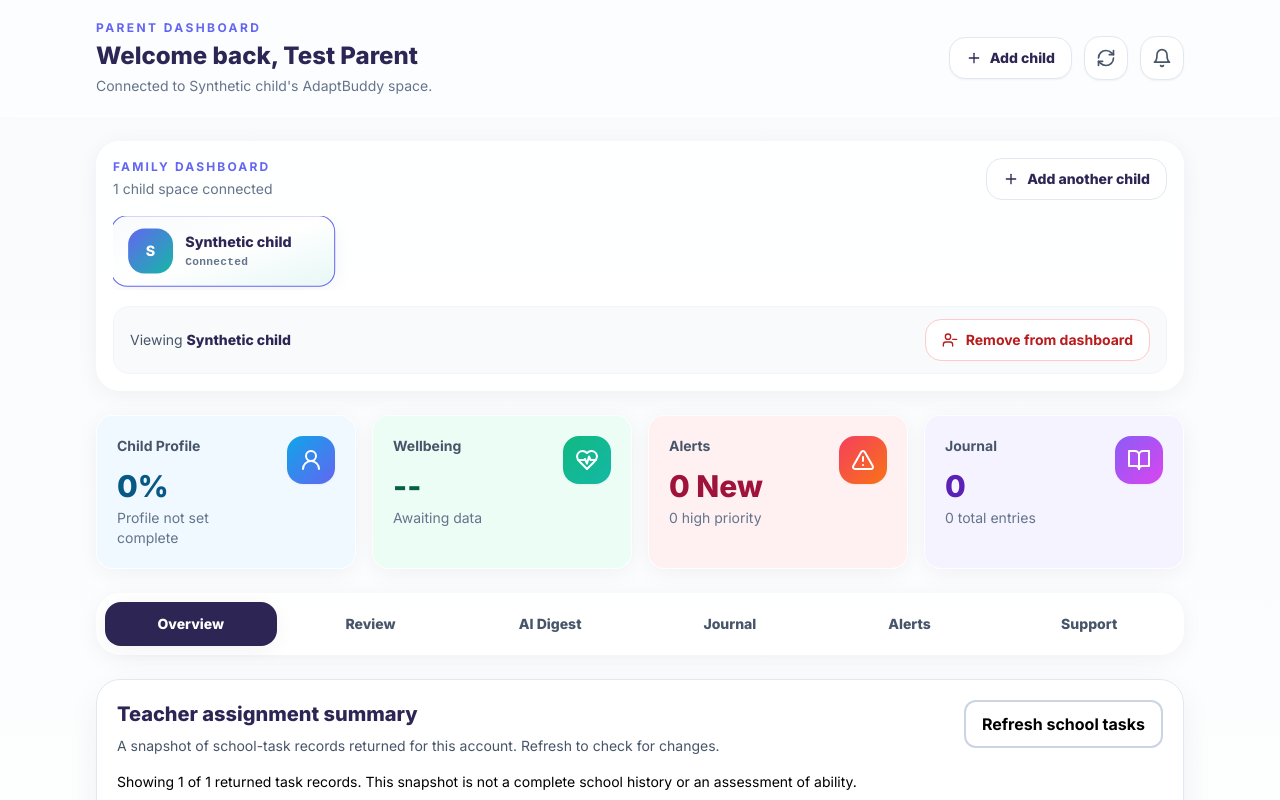
review counts only recorded support use, not teacher suggestions
Click the button "Review".
click(371, 624)  # box [285,602,456,646]
(page scrolled)
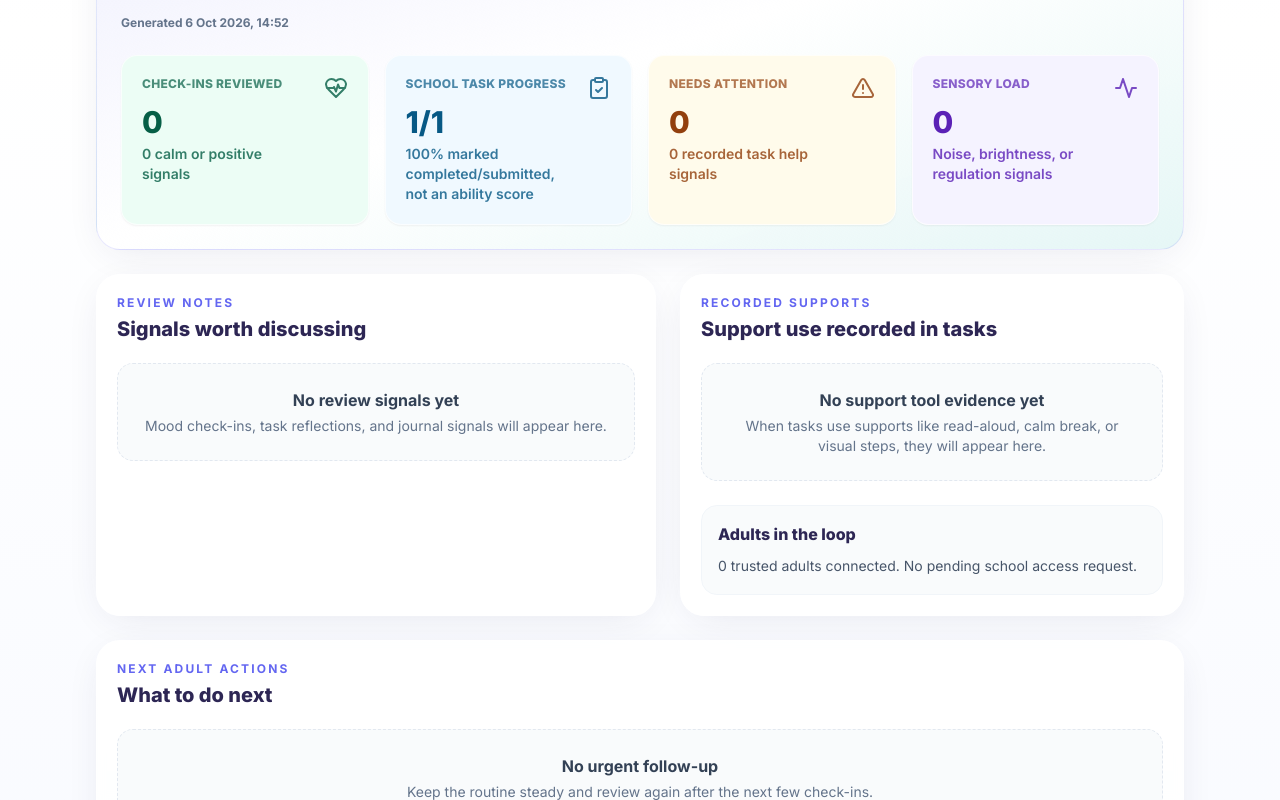
Expected: the text "No support tool evidence yet" is shown, [820,390,1044,410]
